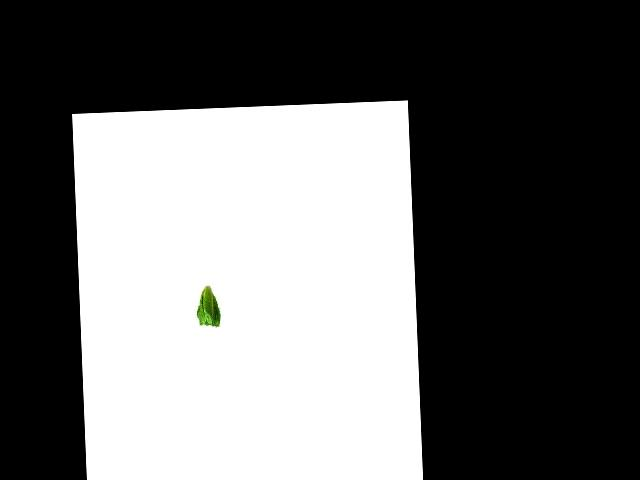lettuce: (192, 283, 224, 329)
